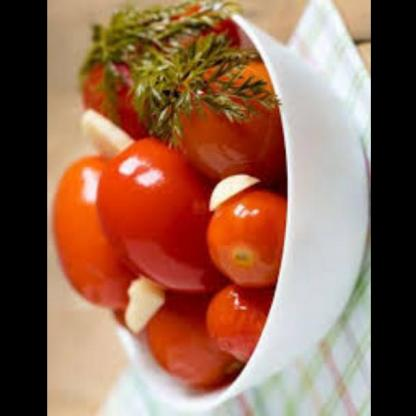garlic: (64, 105, 136, 162), (117, 273, 164, 339), (204, 163, 260, 212)
tomato: (46, 8, 293, 396)
